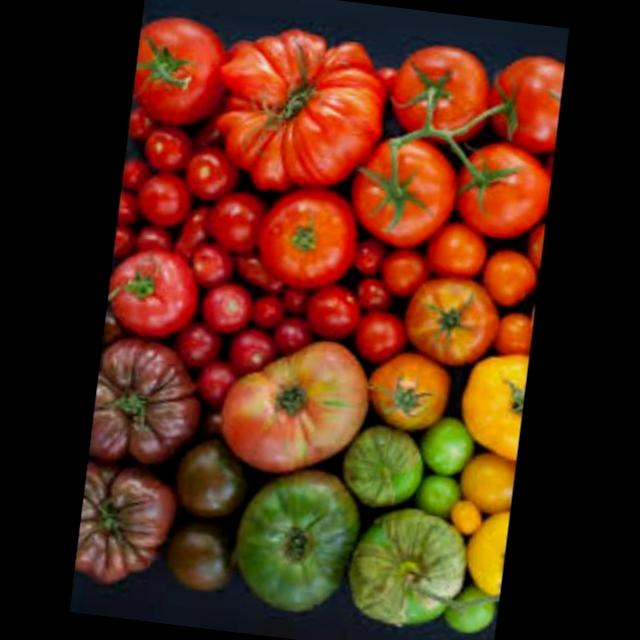Tomato: (203, 28, 380, 200), (195, 258, 418, 366), (214, 332, 370, 482), (224, 462, 360, 626), (112, 122, 254, 275), (353, 208, 544, 306), (334, 496, 466, 636), (86, 349, 202, 479), (246, 178, 368, 294), (72, 459, 180, 590), (348, 120, 460, 246), (384, 37, 498, 147), (102, 238, 206, 348), (453, 326, 531, 468), (394, 274, 502, 374), (130, 11, 224, 124), (326, 418, 431, 518), (356, 341, 457, 442), (162, 496, 258, 600), (452, 140, 550, 239), (161, 438, 267, 524), (478, 51, 564, 149), (448, 510, 510, 610), (408, 404, 484, 480), (451, 446, 515, 524), (431, 576, 499, 640), (410, 466, 466, 526), (439, 495, 490, 543)
